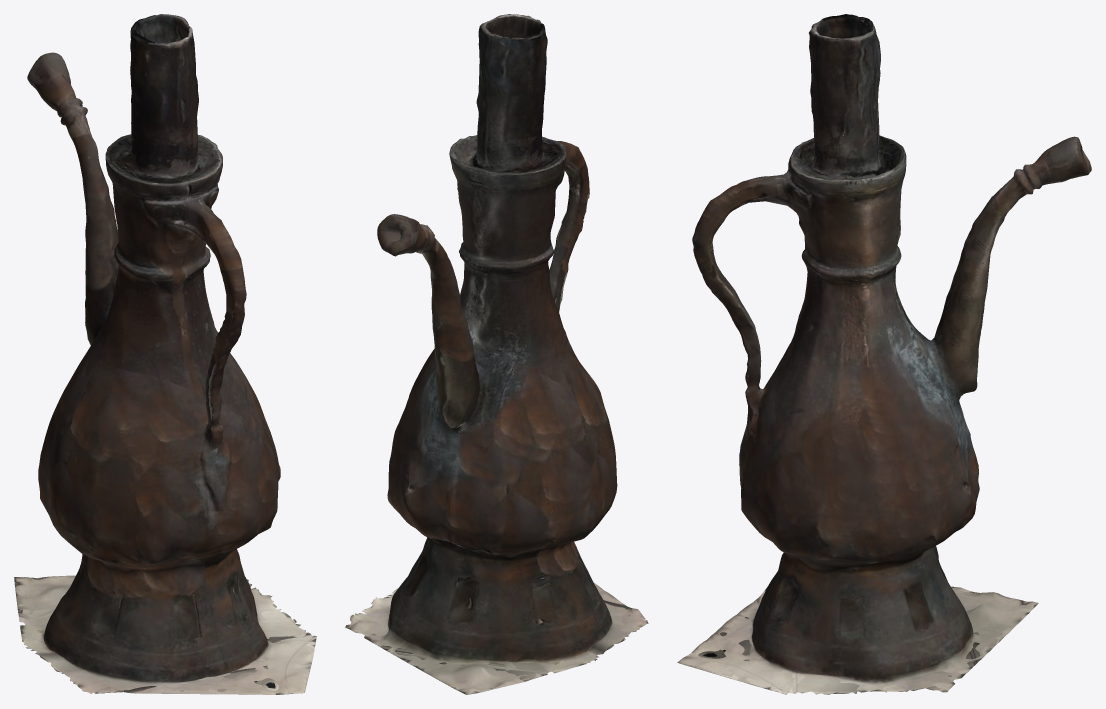
Rendered from suvdon3.gltf.
The picture shows the model from 3 angles, left to right: view 1: azimuth 30°, elevation 25°; view 2: azimuth 150°, elevation 25°; view 3: azimuth 270°, elevation 25°; orthographic projection. The views are drawn at different scales.
Parts seen in each view (by area): view 1: suvdonMetal; view 2: suvdonMetal; view 3: suvdonMetal.
Boxes of the visible parts, left/top/right/bottom form: suvdonMetal: left=14, top=14, right=316, bottom=694; suvdonMetal: left=345, top=14, right=648, bottom=694; suvdonMetal: left=677, top=14, right=1091, bottom=694.
Size of the model in its own units: 7.53 by 18.67 by 11.46.
Materials: 1 (1 with a texture image).
